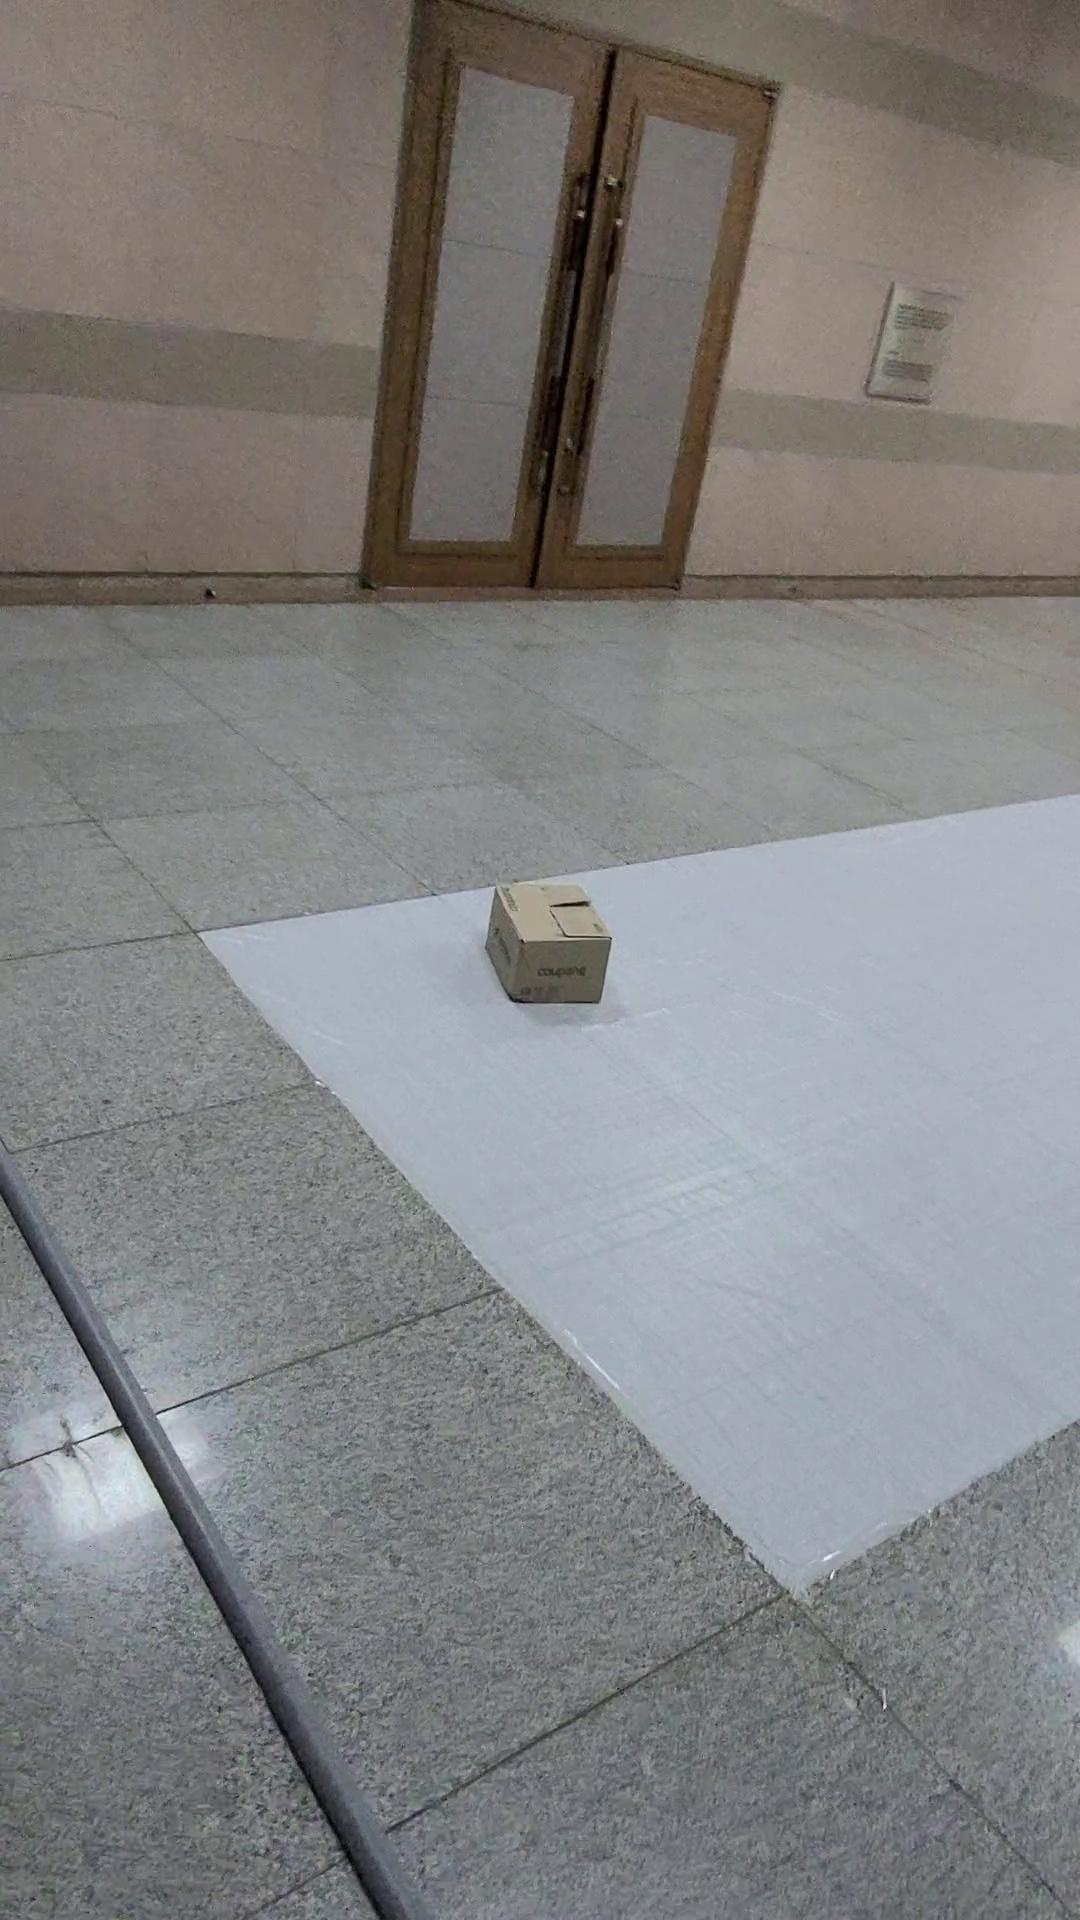Box: (477, 862, 620, 1007)
